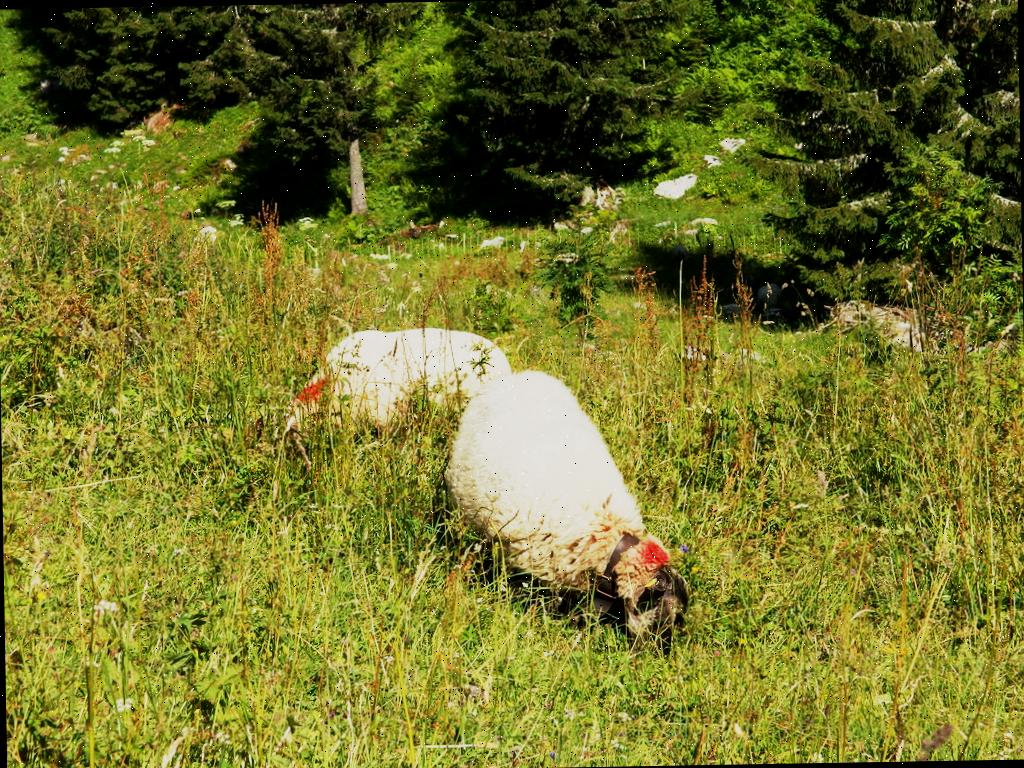Sheep: (432, 364, 682, 660), (287, 326, 509, 446)
